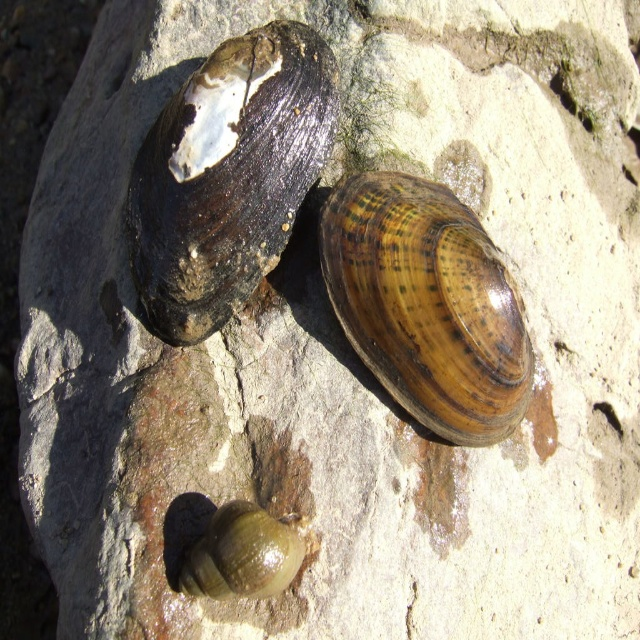Snail: (126, 19, 346, 346), (315, 166, 537, 451), (176, 499, 305, 604)
